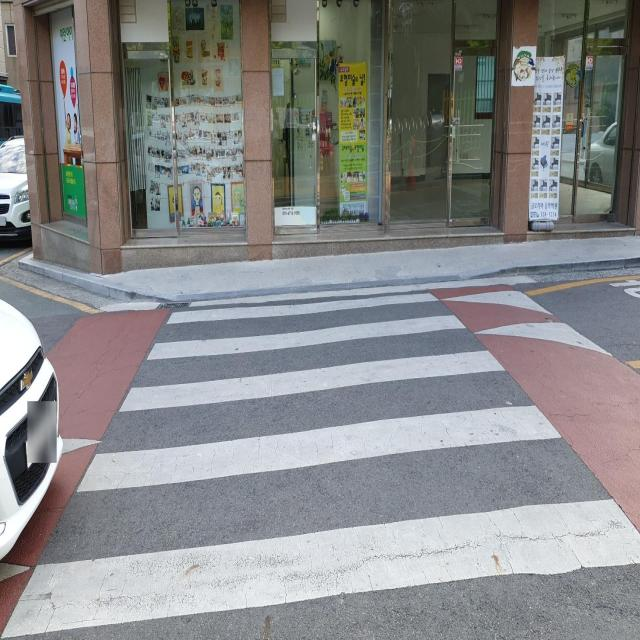횡단보도: (0, 292, 640, 640)
